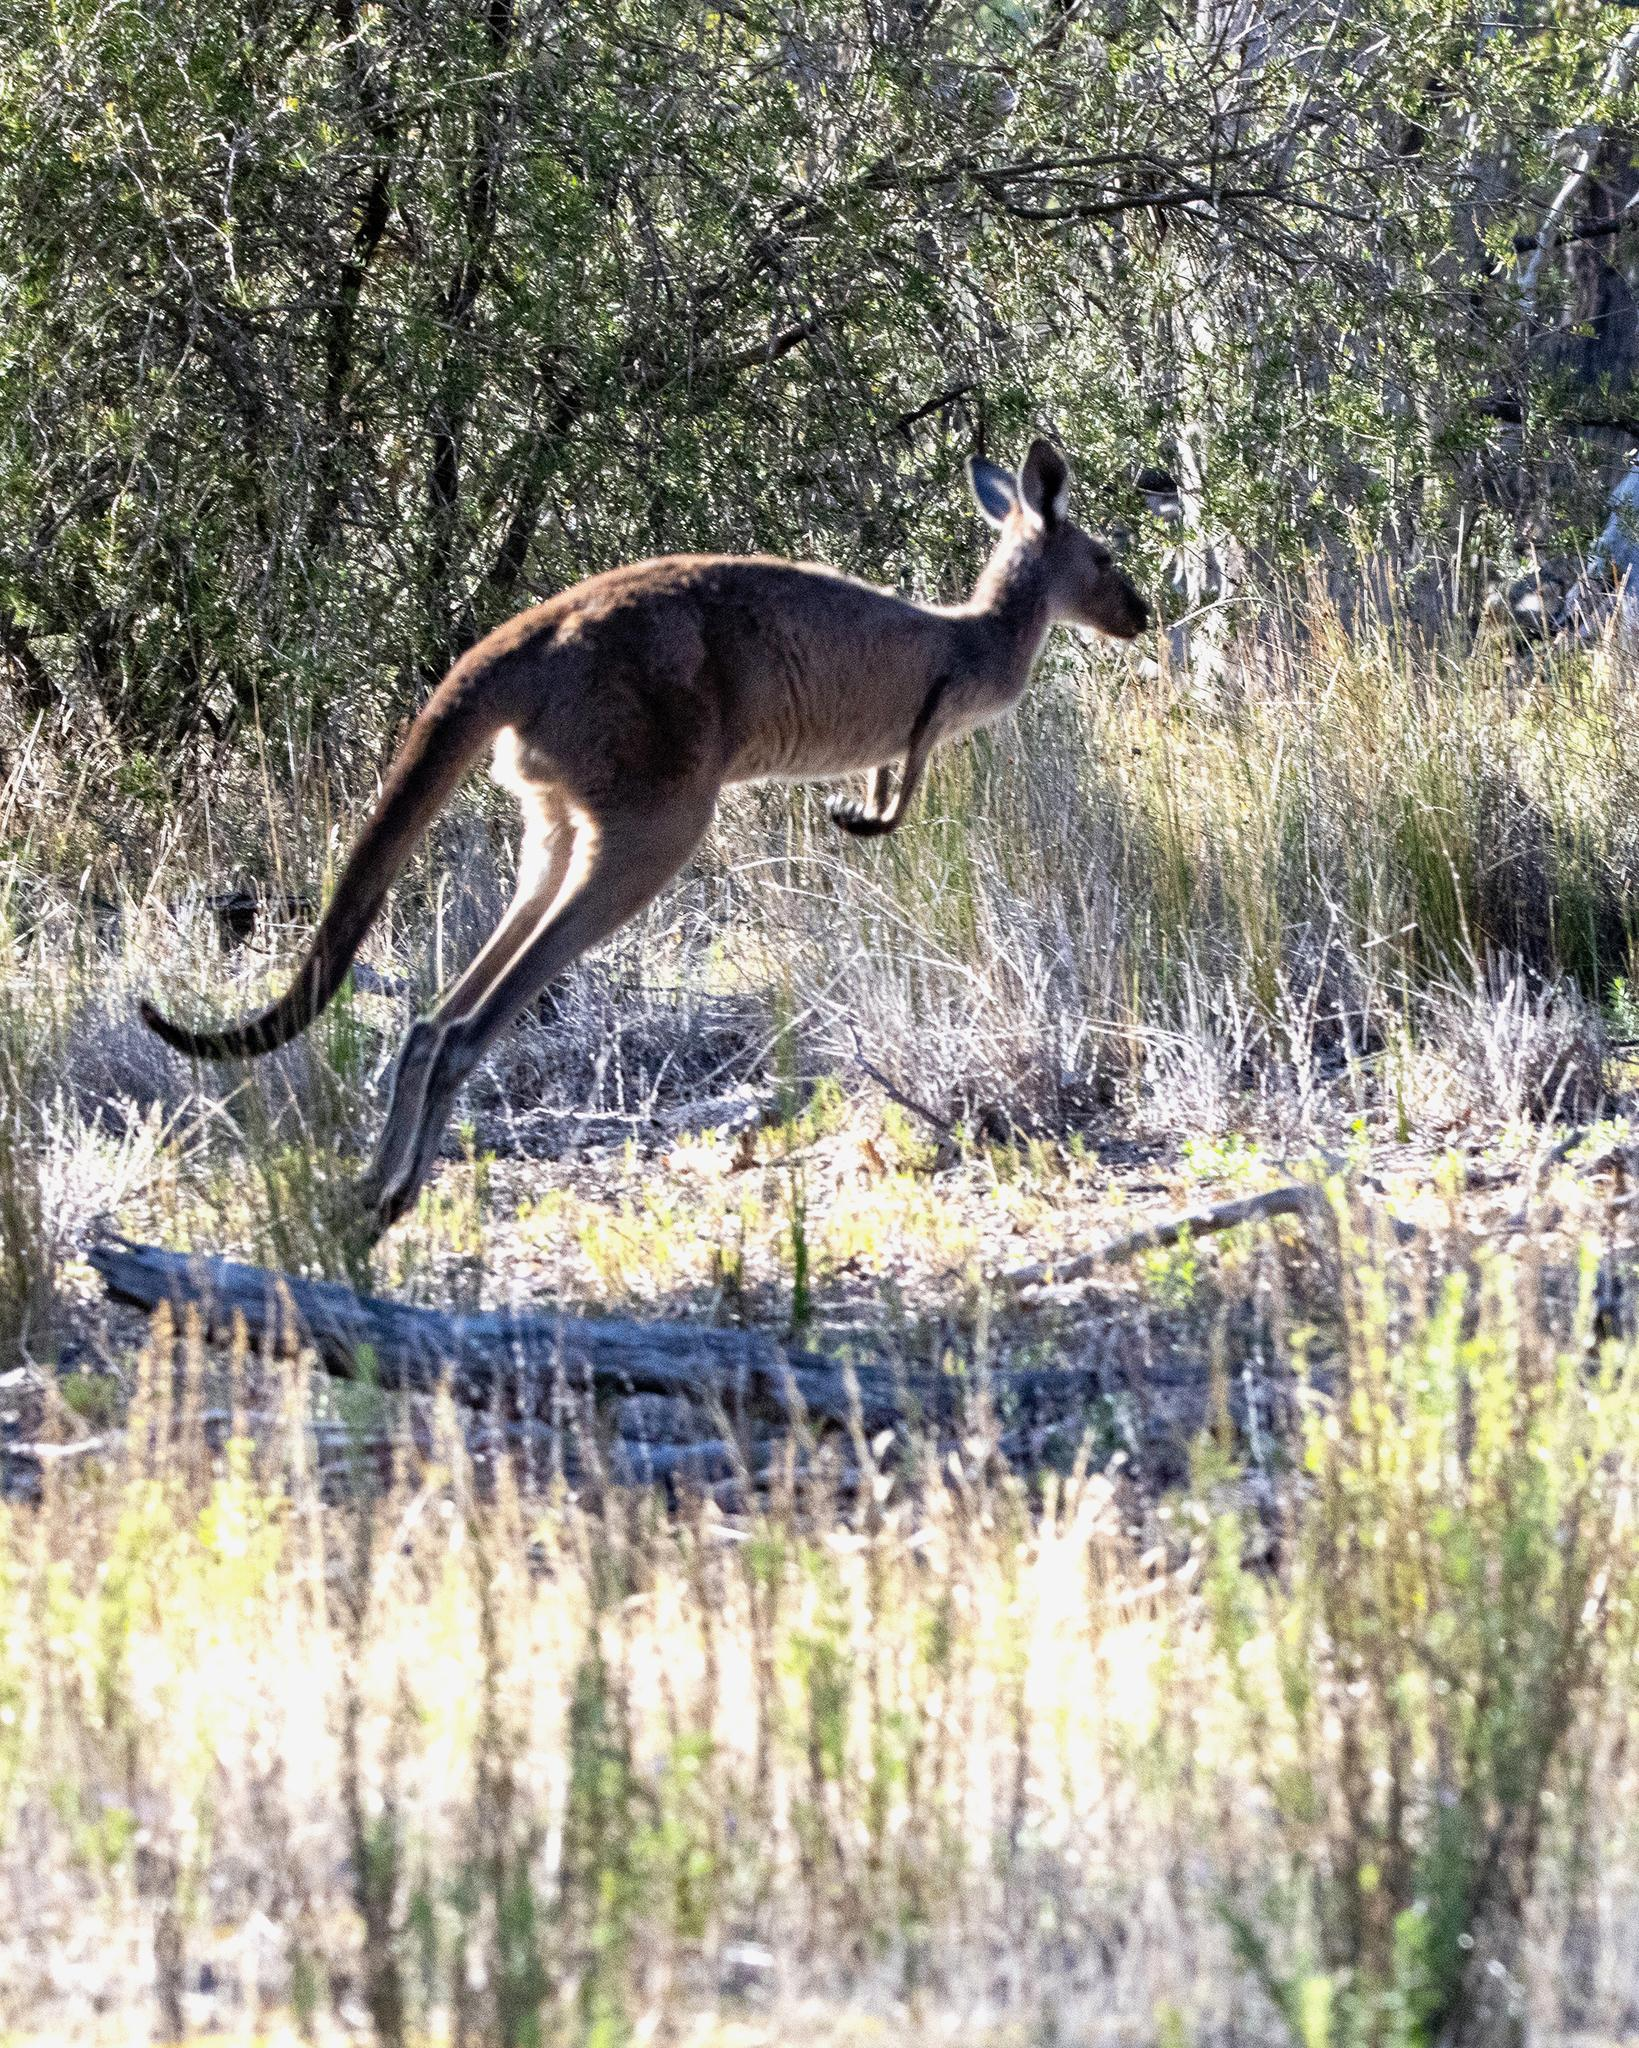Western grey kangaroo: (130, 436, 1154, 1284)
